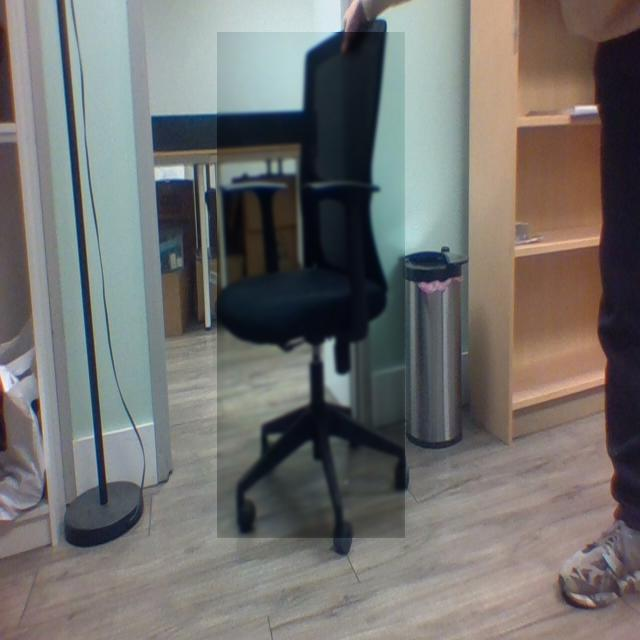black-chair: (217, 32, 406, 539)
